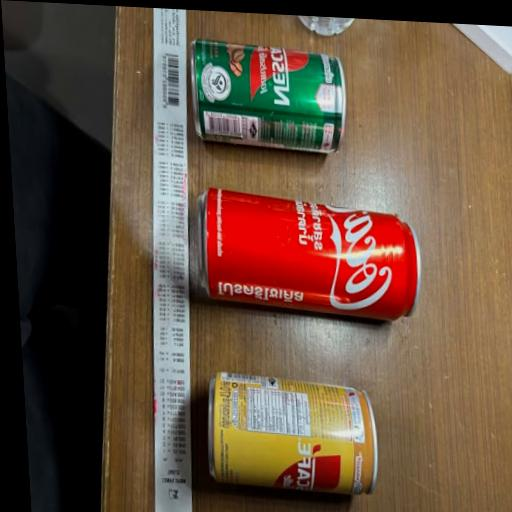canned: (184, 164, 432, 338), (188, 341, 398, 512), (180, 34, 375, 163)
